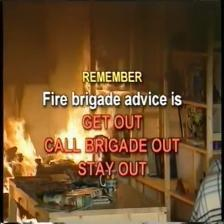fire: (3, 81, 109, 178)
